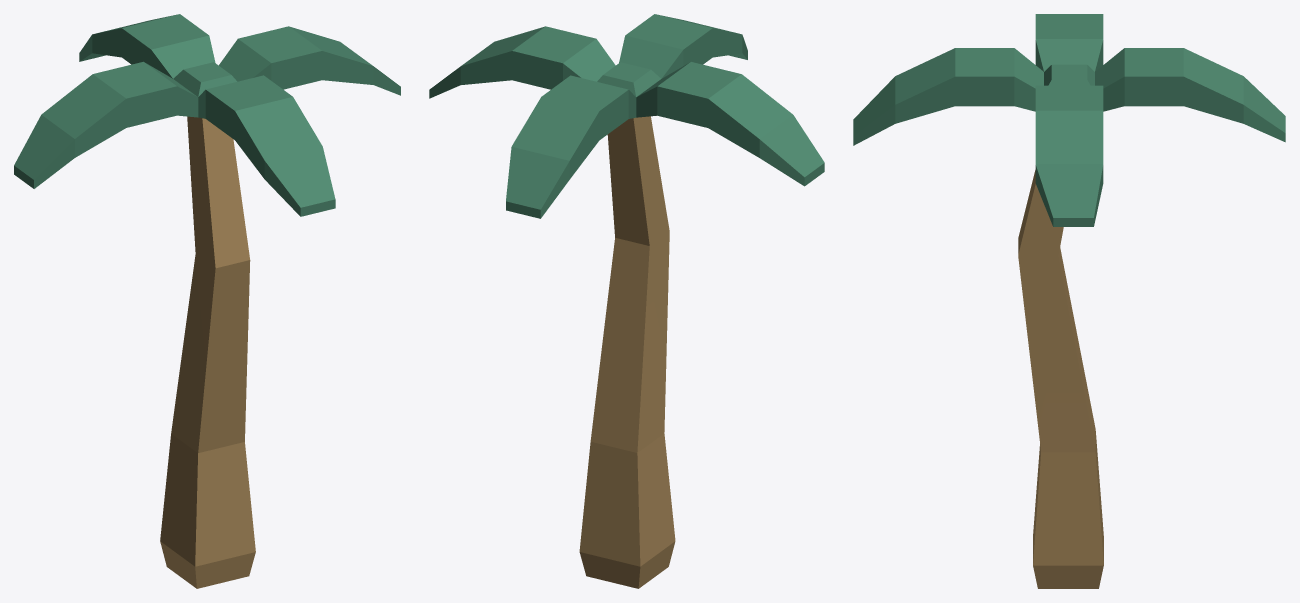
The model's file is palm_1.obj.
3 renders of one model, left to right at view 1: azimuth 30°, elevation 25°; view 2: azimuth 150°, elevation 25°; view 3: azimuth 270°, elevation 25°, orthographic.
Parts seen in each view (by area): view 1: Mesh2_Group3_Group1_Model, Mesh1_Group2_Group1_Model; view 2: Mesh2_Group3_Group1_Model, Mesh1_Group2_Group1_Model; view 3: Mesh2_Group3_Group1_Model, Mesh1_Group2_Group1_Model.
Boxes of the visible parts, x1=… form: Mesh2_Group3_Group1_Model: x1=14, y1=14, x2=400, y2=216; Mesh1_Group2_Group1_Model: x1=160, y1=116, x2=255, y2=588; Mesh2_Group3_Group1_Model: x1=429, y1=14, x2=824, y2=218; Mesh1_Group2_Group1_Model: x1=579, y1=116, x2=675, y2=588; Mesh2_Group3_Group1_Model: x1=853, y1=14, x2=1285, y2=226; Mesh1_Group2_Group1_Model: x1=1018, y1=170, x2=1103, y2=588.
Size of the model in its own units: 3.18 by 4.17 by 3.18.
